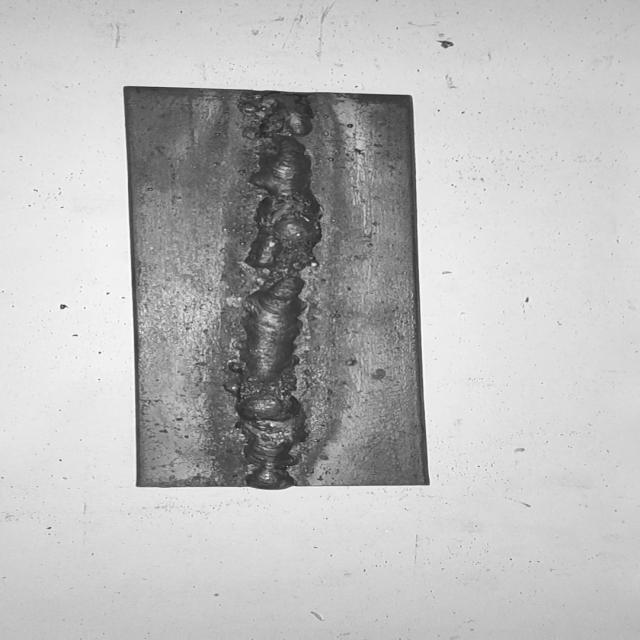Bad Weld: (236, 92, 313, 488)
Defect: (211, 361, 313, 452), (229, 232, 326, 312), (234, 91, 318, 162)
